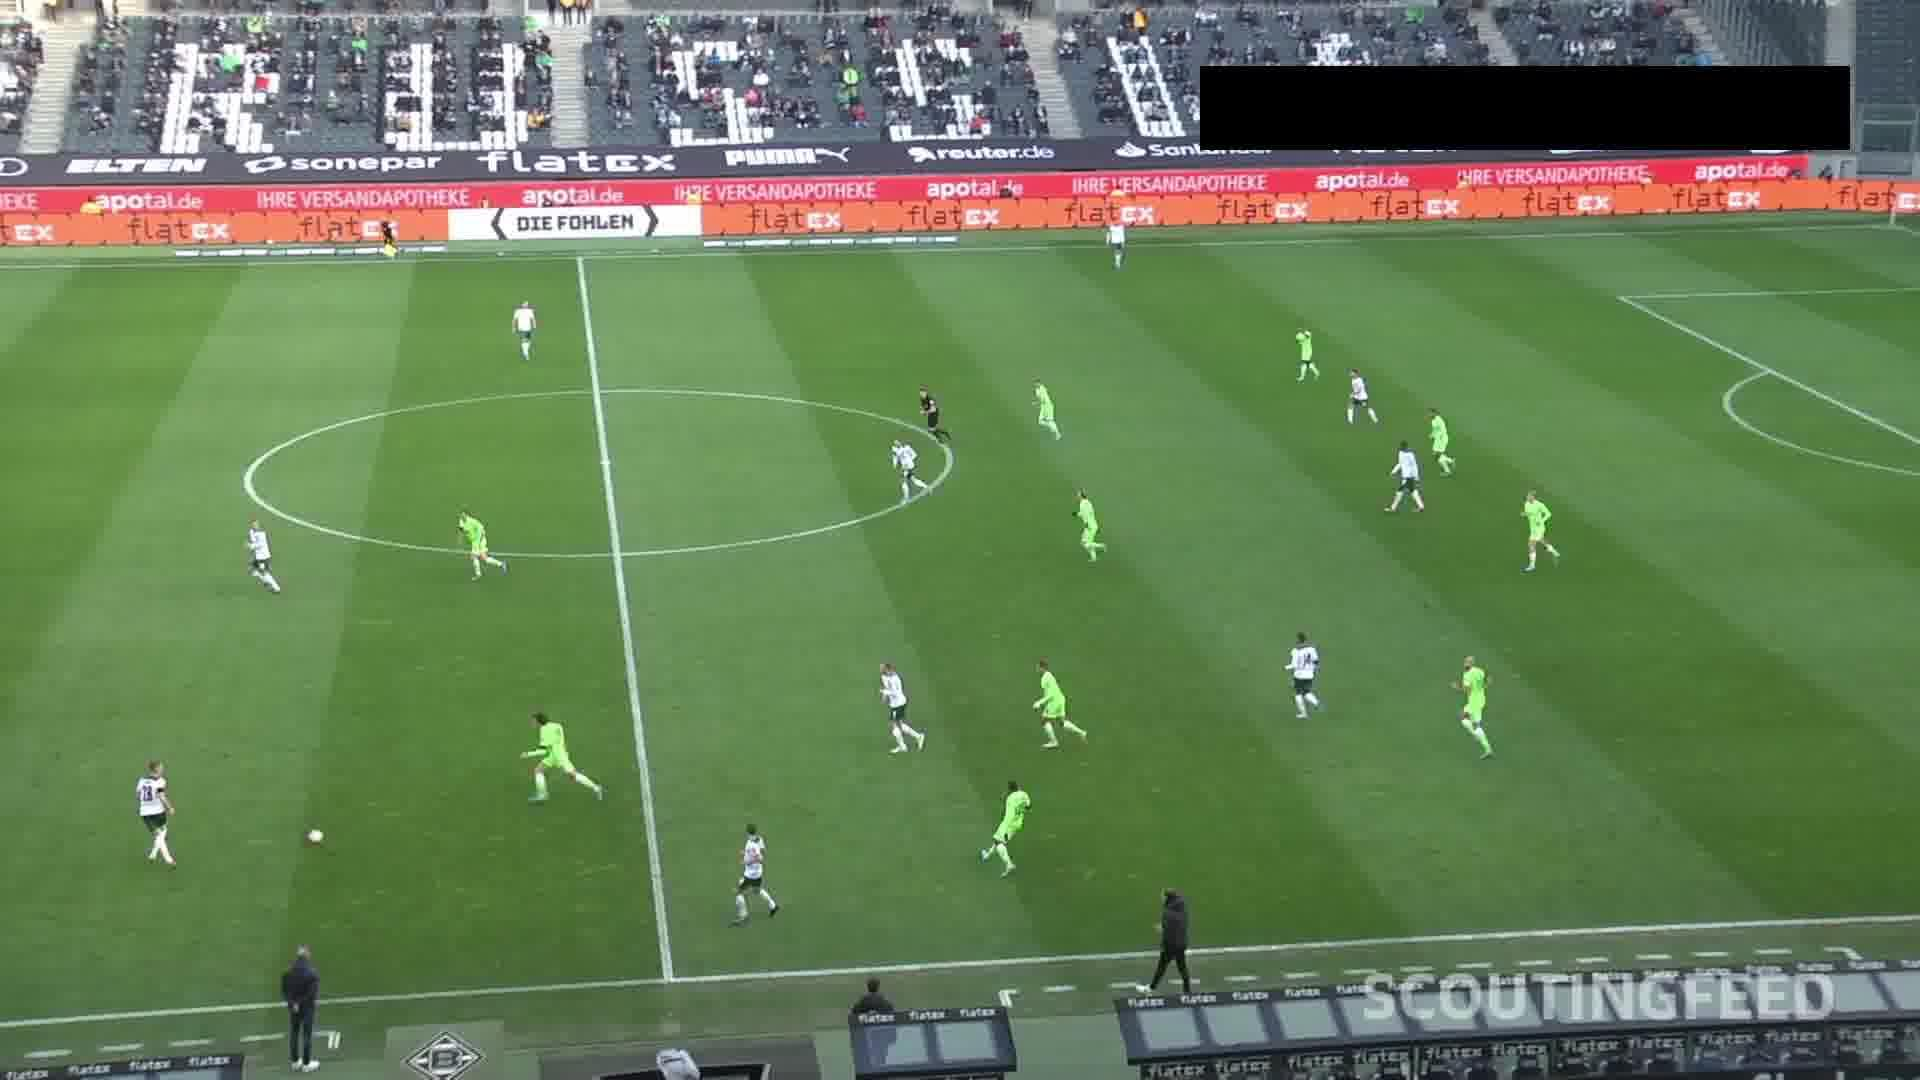football: (306, 827, 327, 847)
